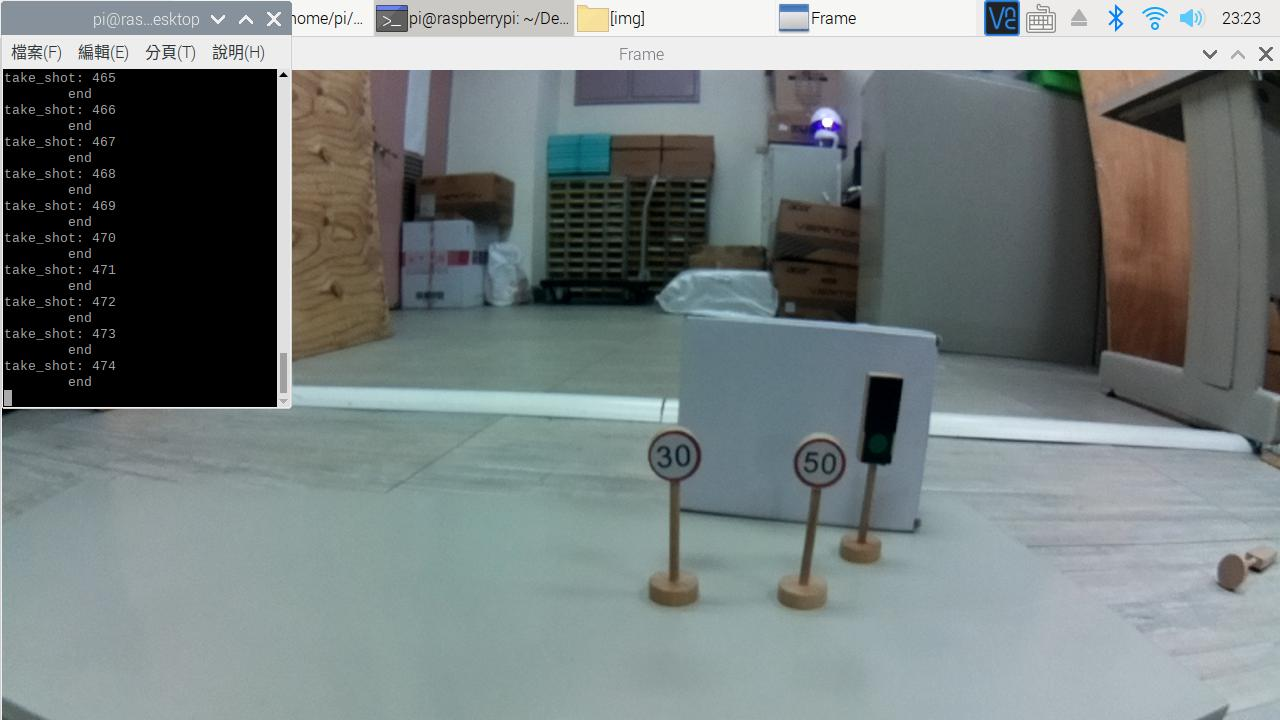Green: (856, 370, 912, 469)
Speed30: (643, 425, 712, 487)
Speed50: (792, 433, 846, 492)
